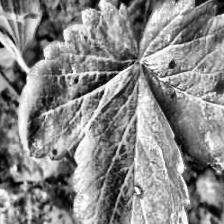Leaf Spot: (18, 0, 139, 160), (71, 63, 190, 224), (139, 0, 224, 173), (194, 166, 224, 204)
